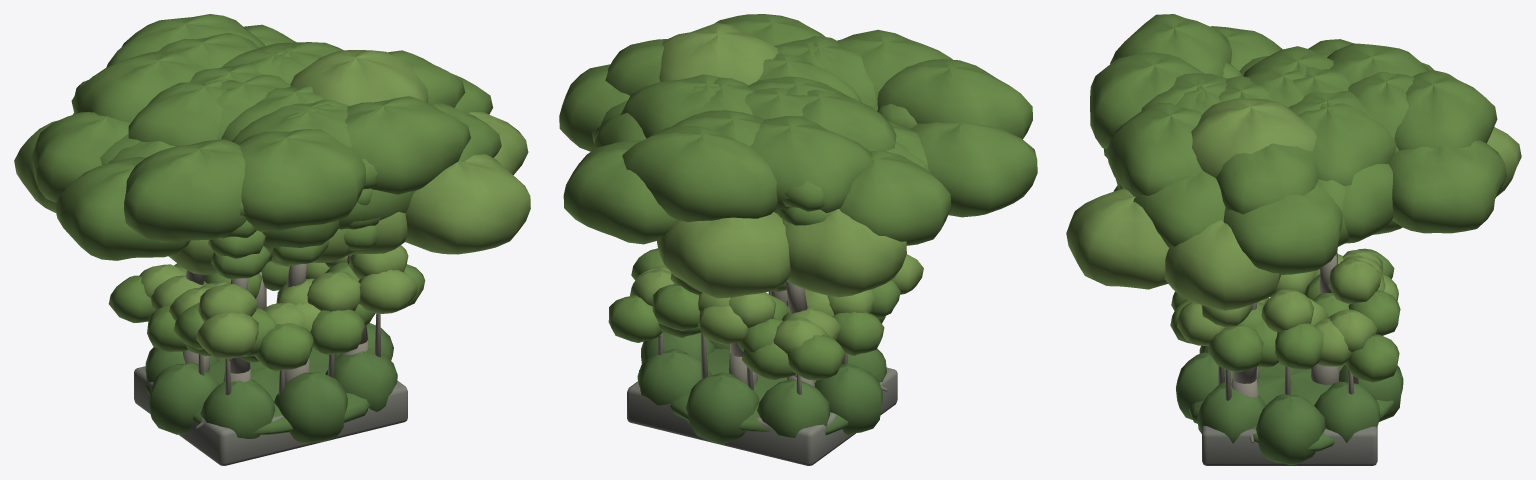
The model's file is beech_copse_1.glb.
3 renders of one model, left to right at view 1: azimuth 30°, elevation 25°; view 2: azimuth 150°, elevation 25°; view 3: azimuth 270°, elevation 25°, orthographic.
Visible parts, largest first — view 1: beech_copse_1_painted_export; view 2: beech_copse_1_painted_export; view 3: beech_copse_1_painted_export.
Boxes of the visible parts, <box> form: beech_copse_1_painted_export: <box>14,14,530,465</box>; beech_copse_1_painted_export: <box>559,14,1037,465</box>; beech_copse_1_painted_export: <box>1066,14,1521,465</box>.
Size of the model in its own units: 20.51 by 15.3 by 18.15.
